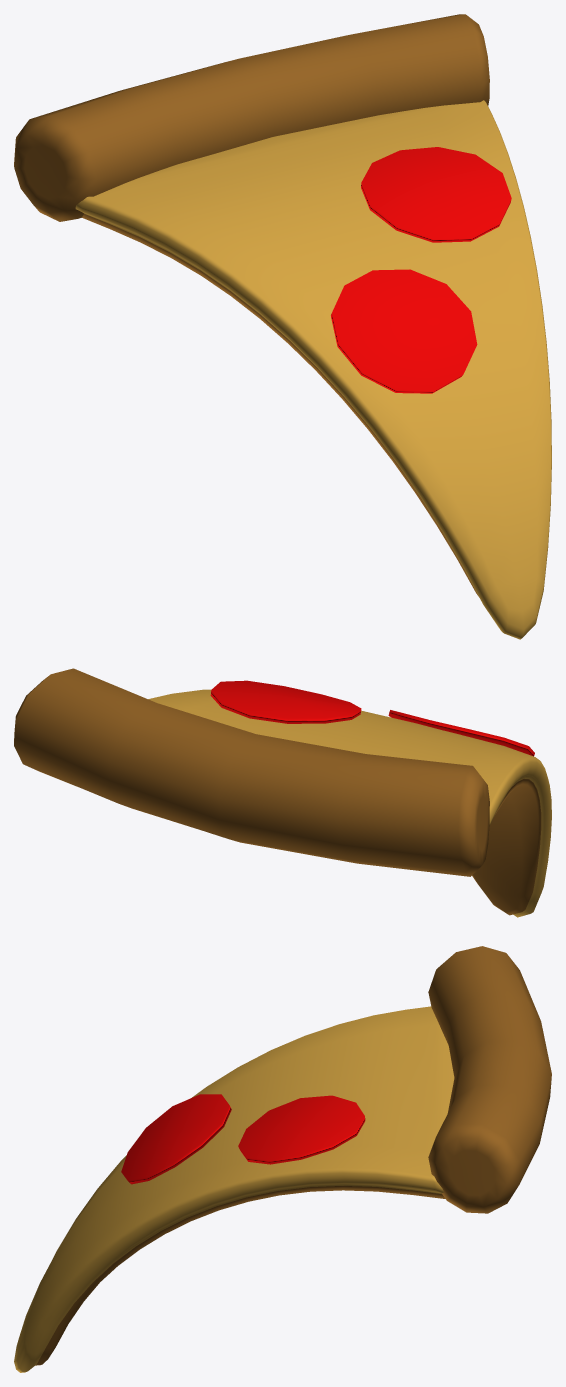
Rendered from Pizza.glb.
3 renders of one model, top to bottom at view 1: azimuth 30°, elevation 25°; view 2: azimuth 150°, elevation 25°; view 3: azimuth 270°, elevation 25°, orthographic. The views are drawn at different scales.
Parts seen in each view (by area): view 1: pizza; view 2: pizza; view 3: pizza.
Part boxes in pixels (x1=…): pizza: x1=14, y1=14, x2=551, y2=639; pizza: x1=14, y1=668, x2=551, y2=917; pizza: x1=14, y1=946, x2=551, y2=1372.
Size of the model in its own units: 20.62 by 16.36 by 23.63.
